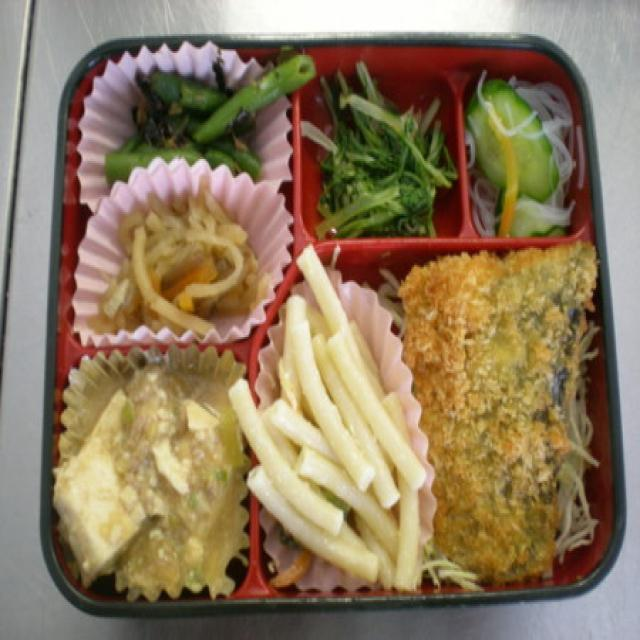French Fries: (245, 252, 423, 596)
Green Salad: (322, 80, 444, 234)
